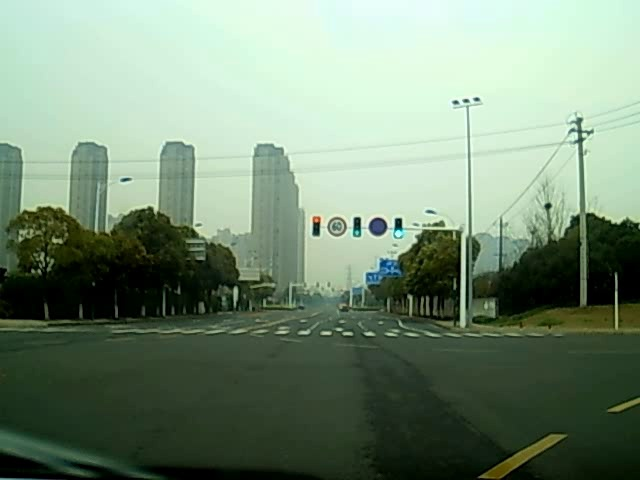Traffic_Light_go: (394, 219, 404, 241), (352, 219, 361, 238)
Traffic_Light_stop: (312, 217, 321, 237)
